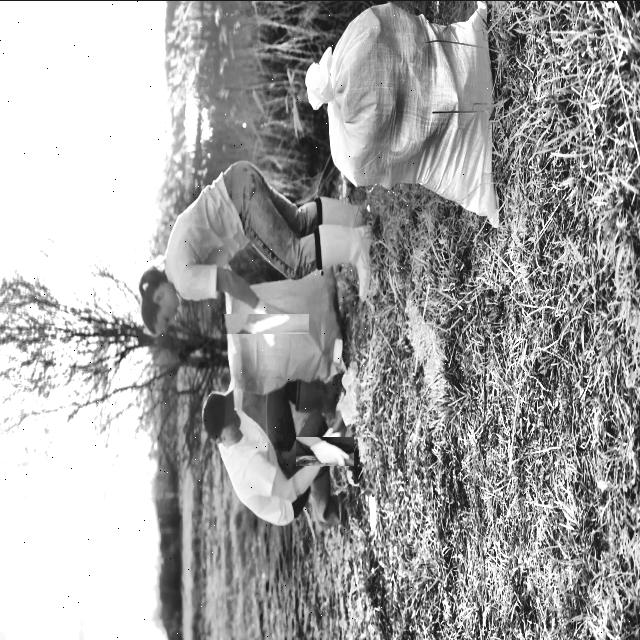gloved: (238, 296, 292, 350), (303, 429, 347, 473)
